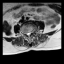CCS_normal: (27, 30, 29, 39)
LFS_normal: (31, 28, 33, 34)
LLS_normal: (29, 29, 31, 36)
RFS_stenosis: (24, 30, 25, 36)
RLS_normal: (25, 30, 27, 36)
